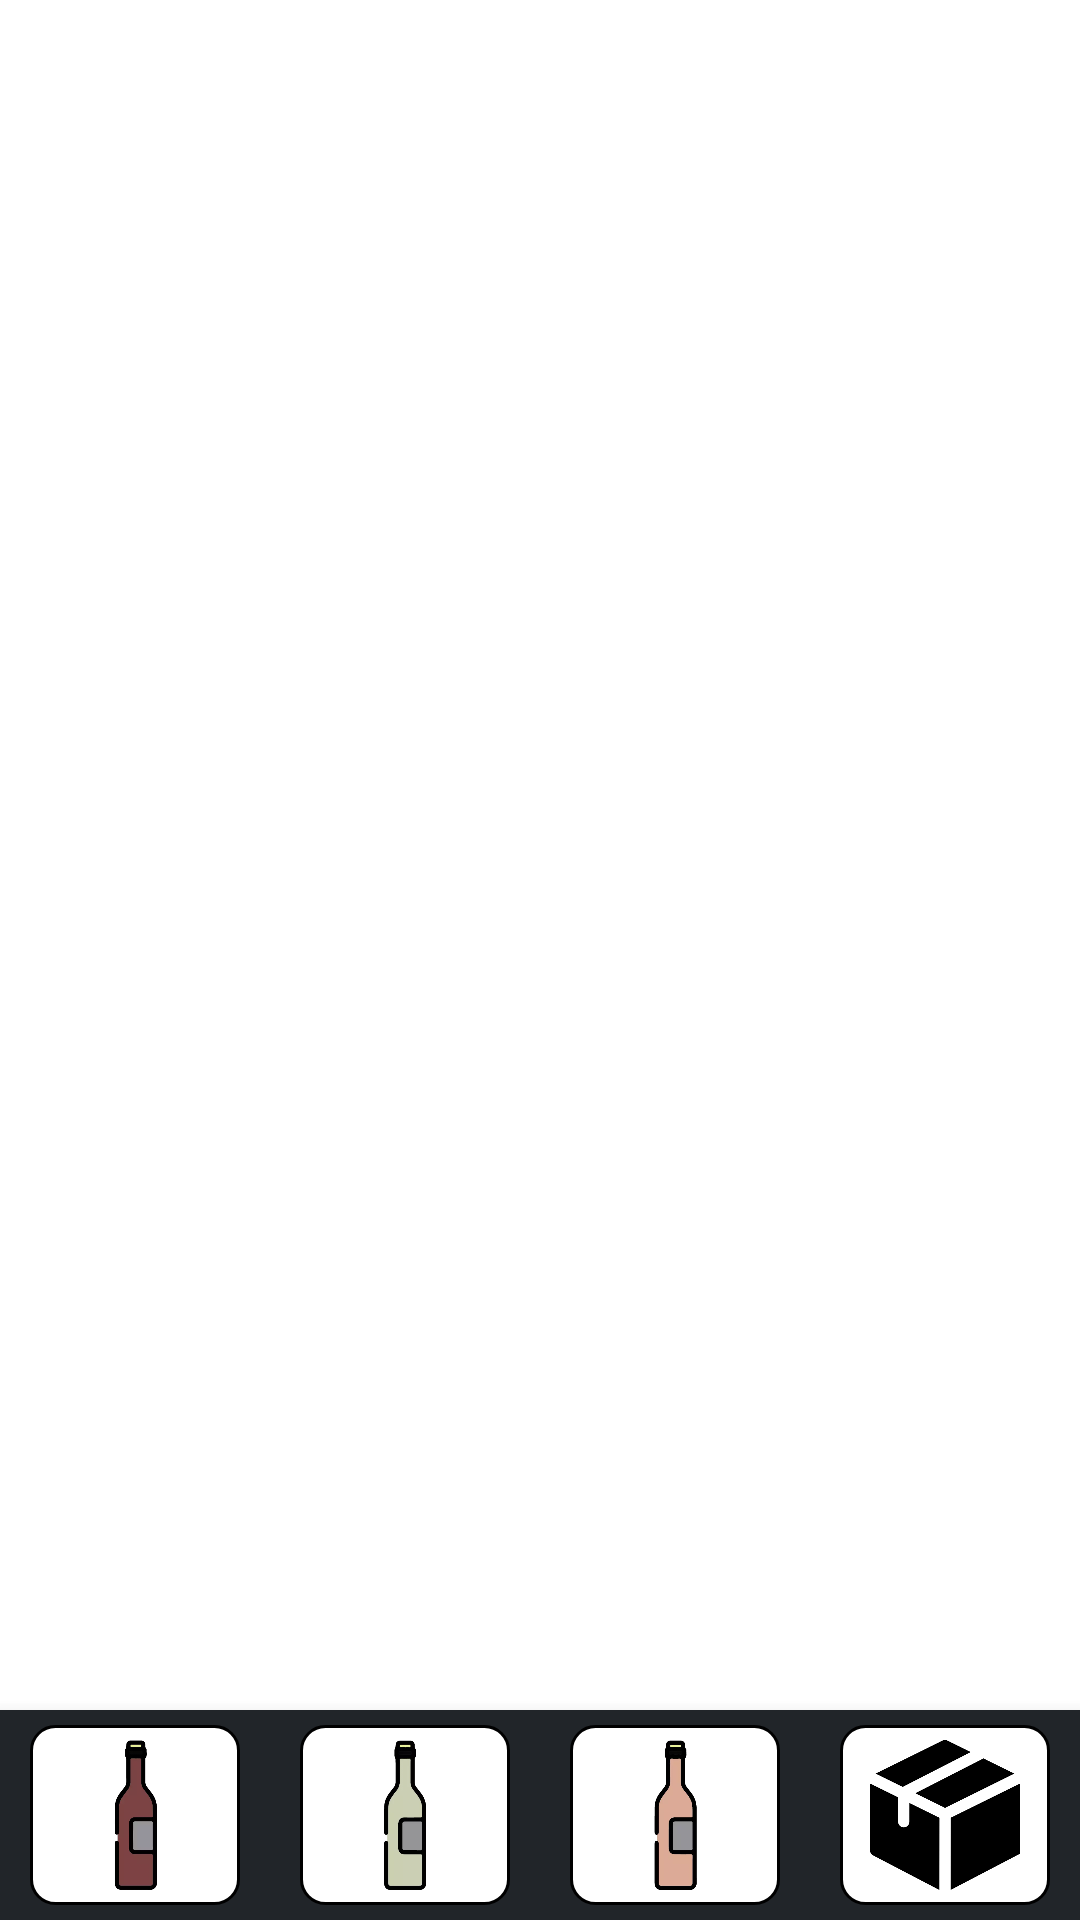

Icon click points for this 1080x1920 phone screenshot, format point (x, y):
blanc: point (405, 1815)
rose: point (675, 1815)
rouge: point (135, 1815)
